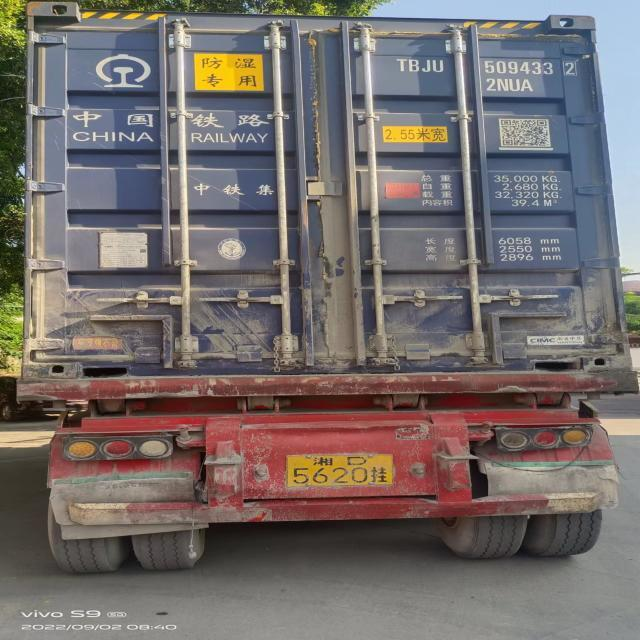ISO: (482, 78, 544, 94)
container_number: (414, 58, 578, 78)
